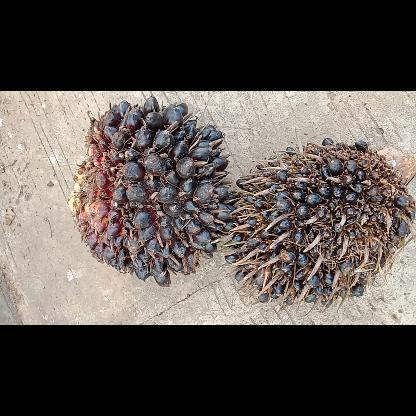TBS mentah: (67, 94, 241, 288), (224, 134, 414, 306)
